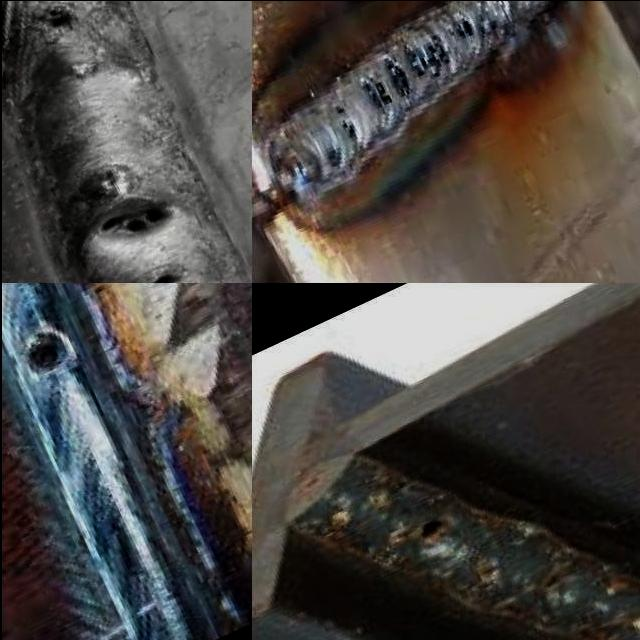defect: (88, 200, 176, 241), (392, 28, 452, 87), (10, 327, 75, 380), (378, 53, 416, 103), (35, 0, 81, 34), (357, 71, 395, 110), (141, 264, 203, 282), (331, 106, 360, 142), (411, 514, 447, 541), (448, 10, 475, 42)
